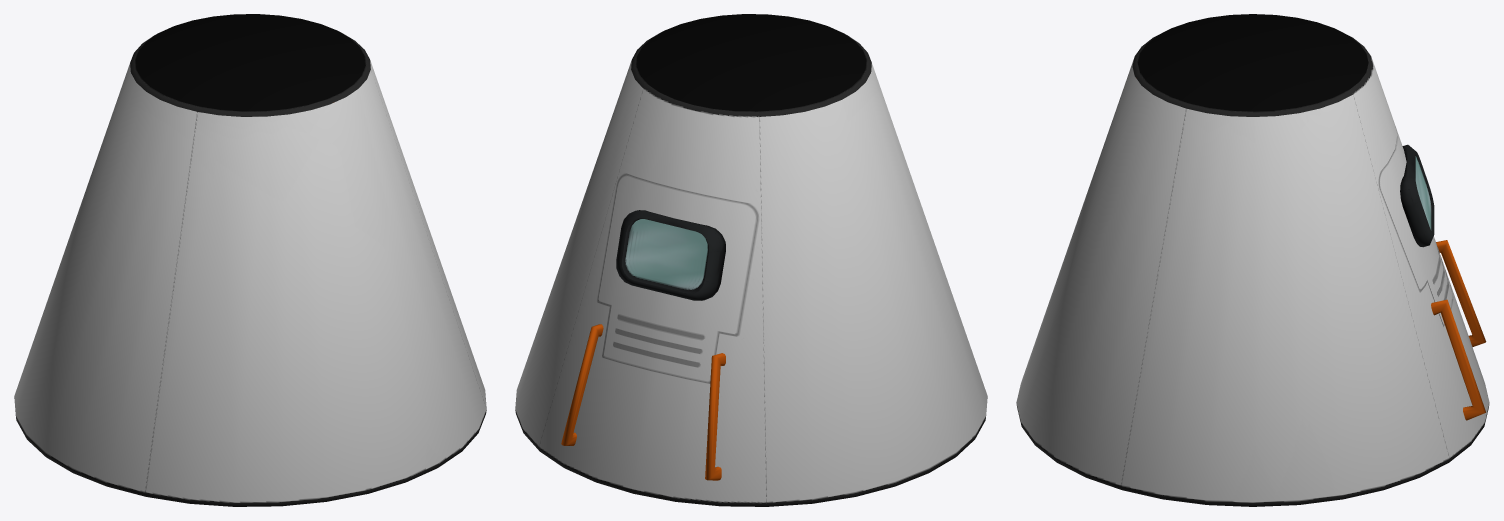
Rendered from spamcan.sturdy.gltf.
3 views of the same model, side by side, from view 1: azimuth 30°, elevation 25°; view 2: azimuth 150°, elevation 25°; view 3: azimuth 270°, elevation 25° (orthographic).
Parts seen in each view (by area): view 1: Cylinder; view 2: Cylinder; view 3: Cylinder.
Part boxes in pixels (box(x1,y1,x2,y2)): Cylinder: box(14, 14, 486, 506); Cylinder: box(515, 14, 987, 506); Cylinder: box(1016, 14, 1489, 506).
Size of the model in its own units: 1.24 by 1 by 1.24.
Materials: 1 (1 with a texture image).
